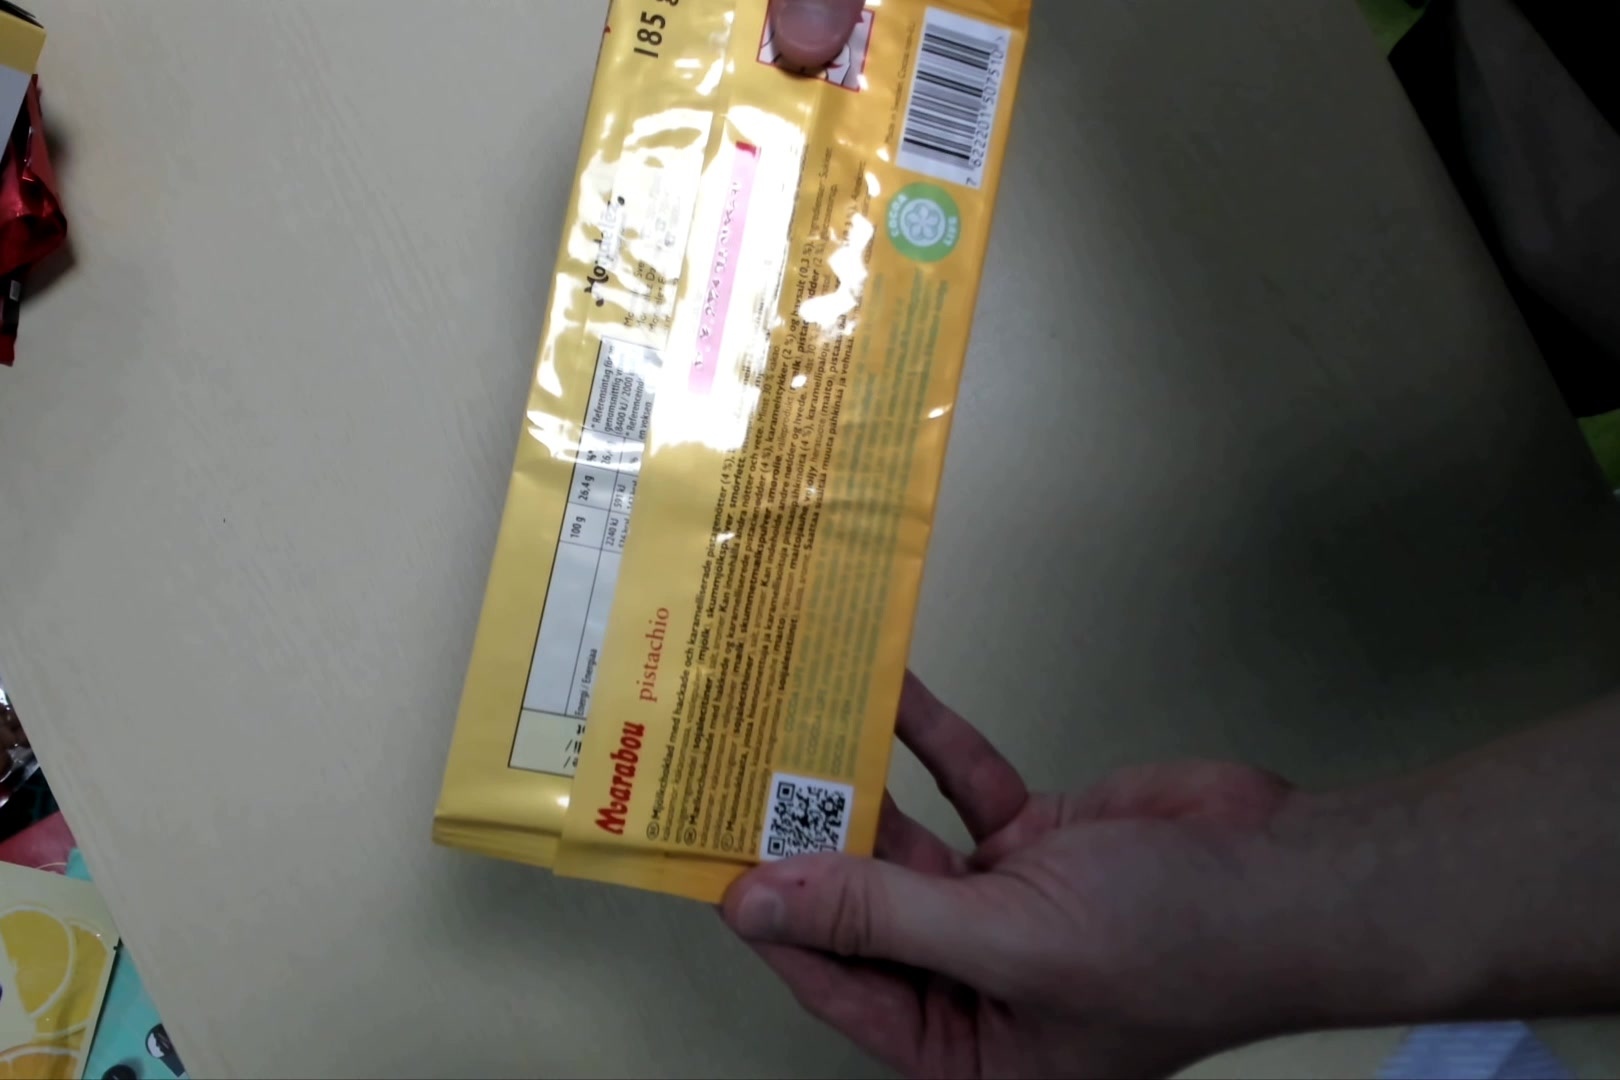SweetsChocolatesOthers_100-199g_NonHalal_NonHealthy: (428, 14, 1035, 911)
